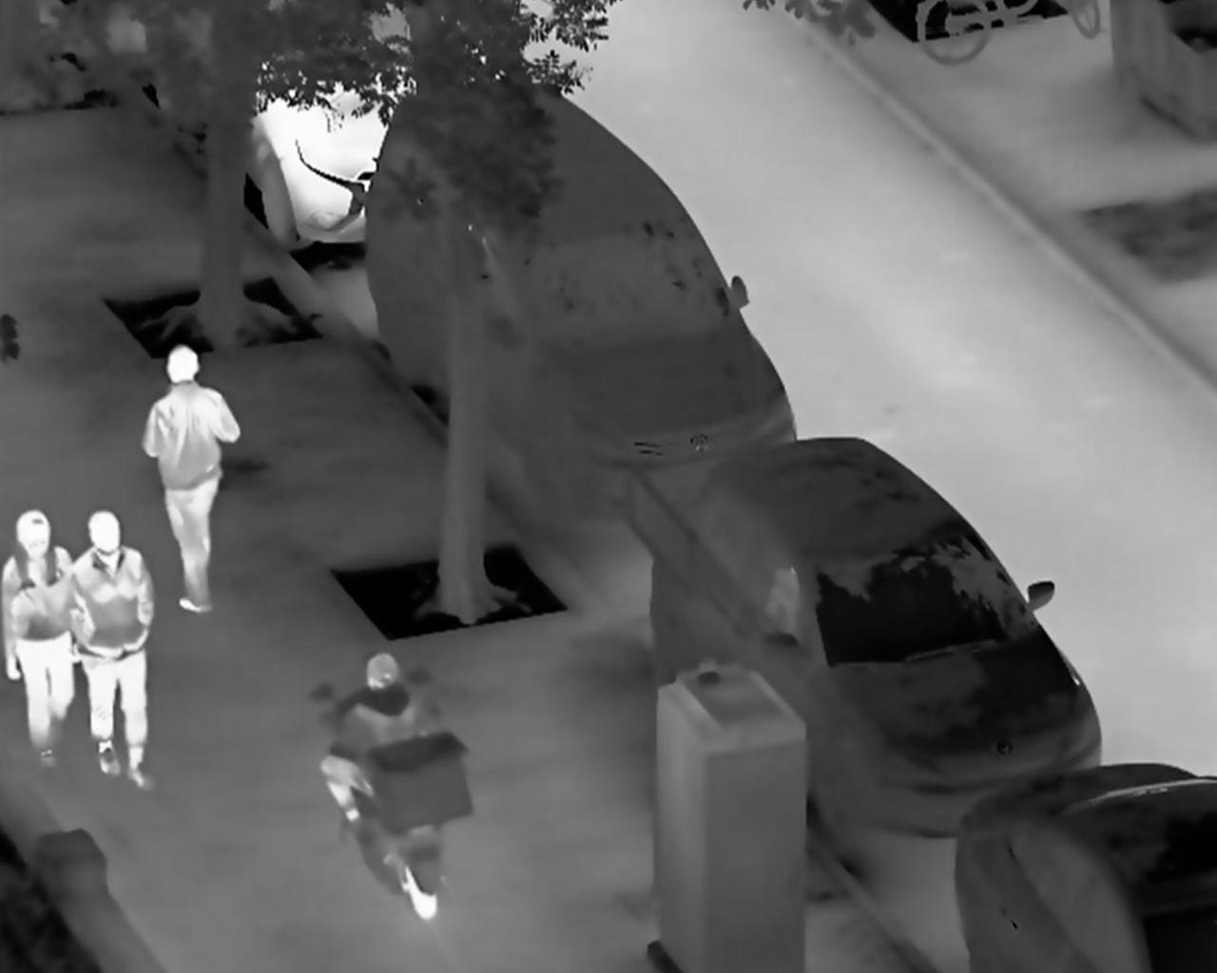person: (140, 342, 245, 619), (71, 509, 161, 795), (317, 648, 434, 840)
